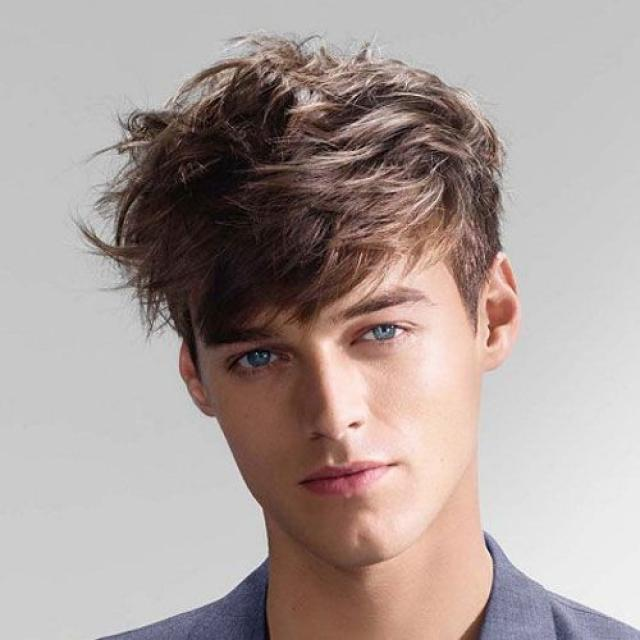Nonhelmet: (112, 30, 544, 584)
